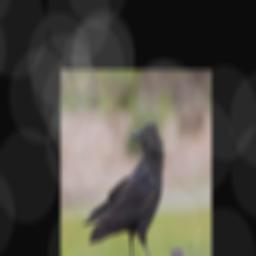Crow: (81, 121, 166, 256)
